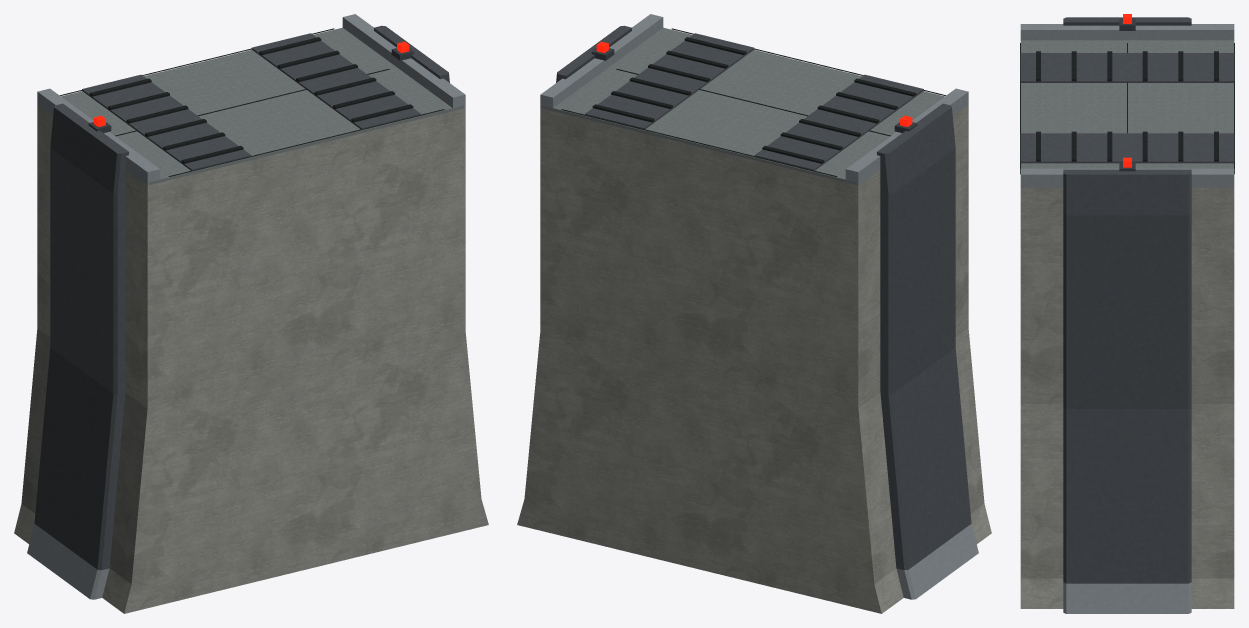
The model's file is half-bay.glb.
3 renders of one model, left to right at view 1: azimuth 30°, elevation 25°; view 2: azimuth 150°, elevation 25°; view 3: azimuth 270°, elevation 25°, orthographic. The views are drawn at different scales.
Visible parts, largest first — view 1: half-bay-lod0-base0, half-bay-lod0-floor0, half-bay-lod0-roof0; view 2: half-bay-lod0-base0, half-bay-lod0-floor0, half-bay-lod0-roof0; view 3: half-bay-lod0-base0, half-bay-lod0-roof0, half-bay-lod0-floor0.
Part boxes in pixels (bbox=[...]): half-bay-lod0-base0: bbox=[14, 328, 488, 613]; half-bay-lod0-floor0: bbox=[37, 128, 465, 408]; half-bay-lod0-roof0: bbox=[37, 14, 465, 208]; half-bay-lod0-base0: bbox=[517, 328, 991, 613]; half-bay-lod0-floor0: bbox=[540, 128, 968, 408]; half-bay-lod0-roof0: bbox=[540, 14, 968, 208]; half-bay-lod0-base0: bbox=[1020, 404, 1234, 613]; half-bay-lod0-roof0: bbox=[1020, 14, 1234, 215]; half-bay-lod0-floor0: bbox=[1020, 210, 1234, 408].
Size of what is drawn, in the model's own units: 36.4 by 40.38 by 18.08.
Materials: 7 (7 with a texture image).
